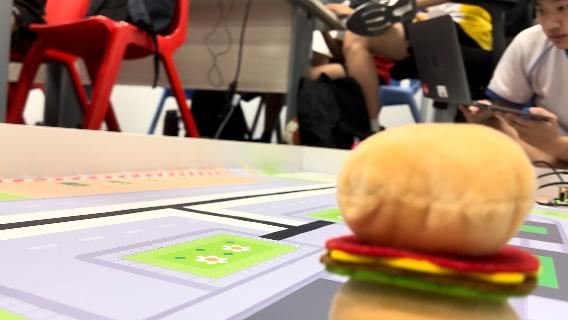burger: (321, 124, 542, 320)
